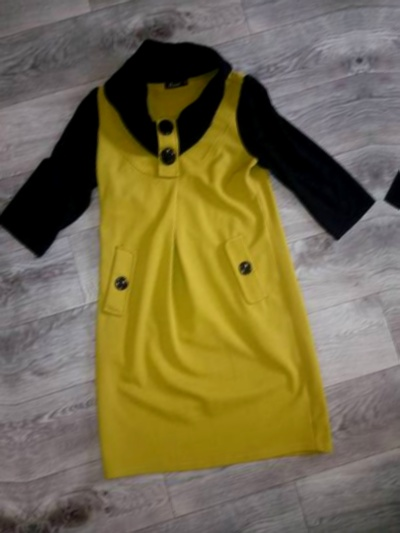Dress: (0, 0, 400, 526), (368, 0, 400, 469), (0, 52, 24, 533)
